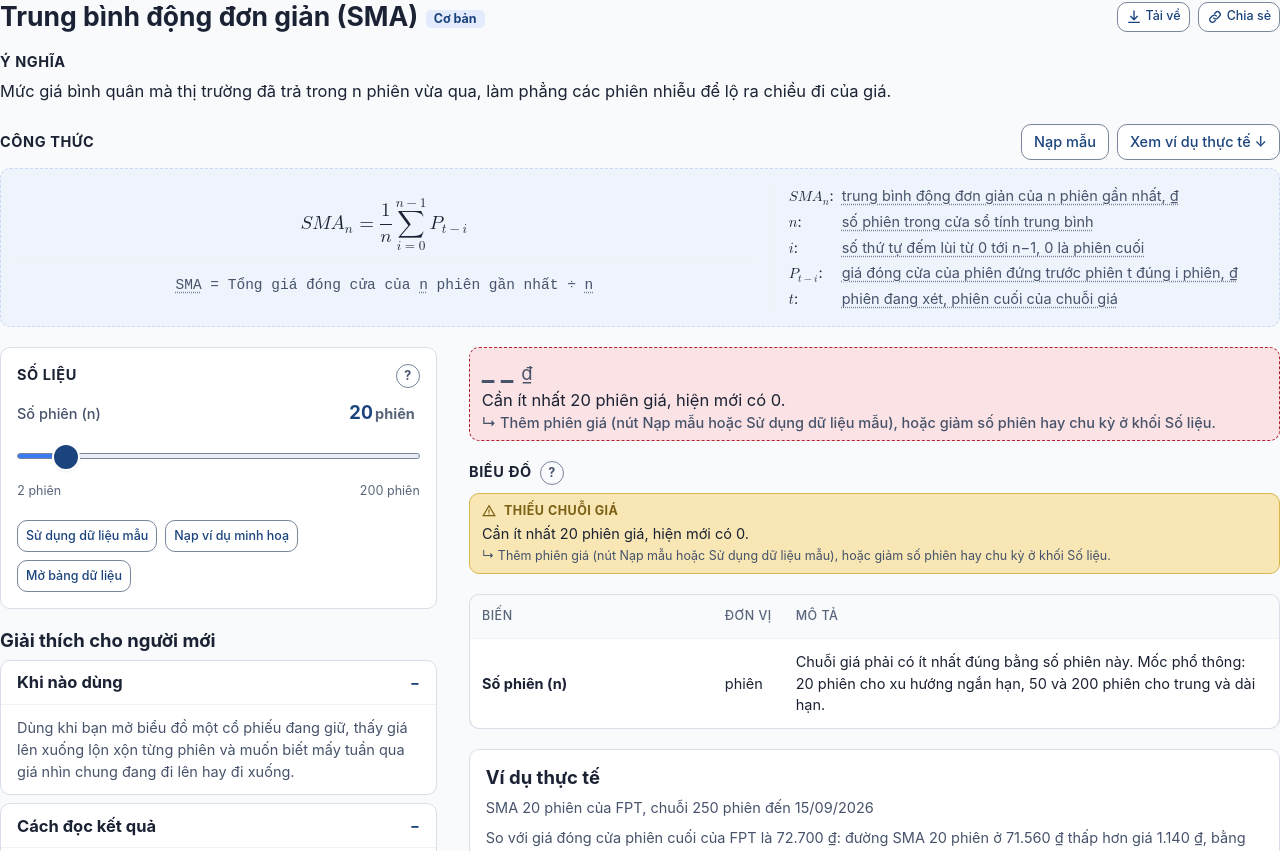
WF-03 — chín khối đúng thứ tự wireframe › khung "?" của công thức đang chờ chuỗi giá nói về hình sẽ hiện ra, kèm điều kiện vẽ
Click the link named "Hướng dẫn: đọc biểu đồ": (552, 473) left=540, top=461, right=564, bottom=485
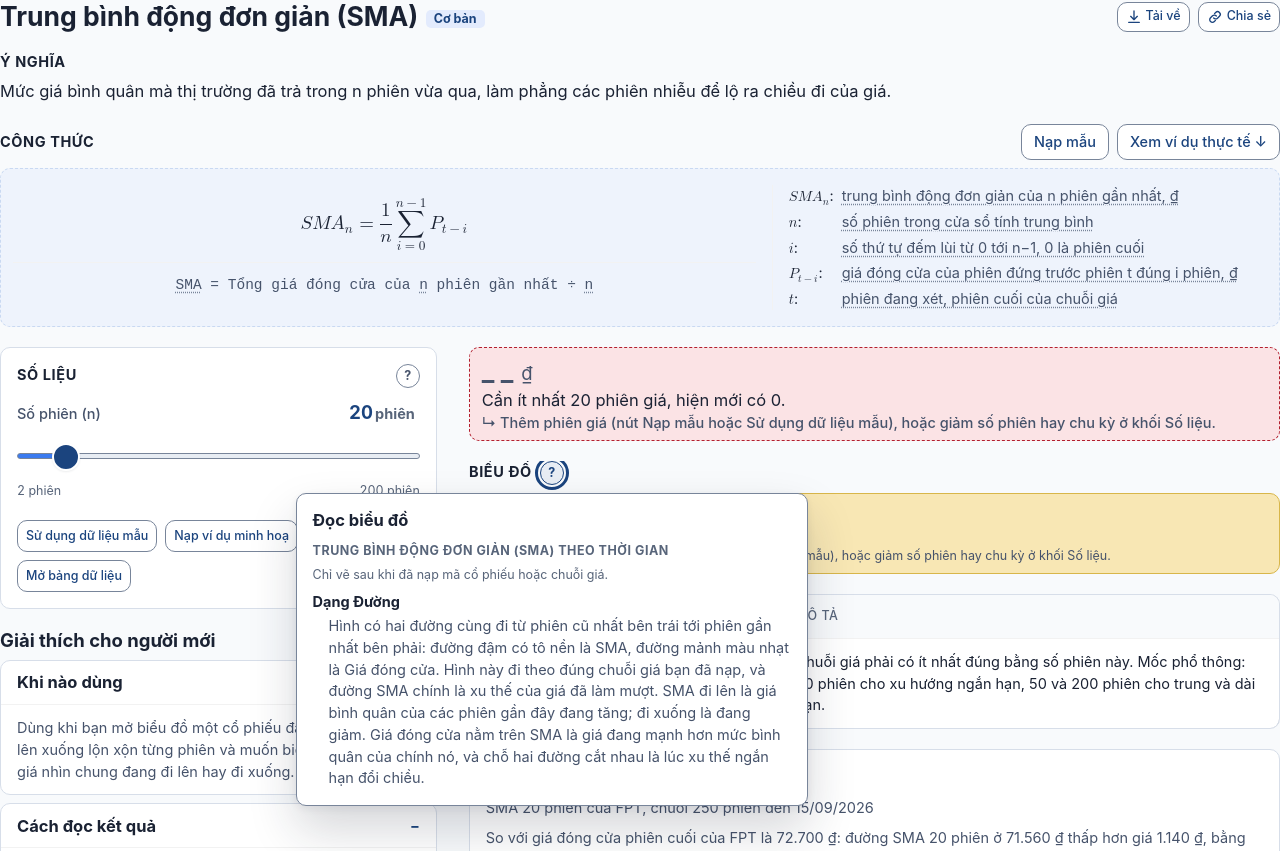
Expected: the heading "Trung bình động đơn giản (SMA) theo thời gian" is shown, left=313, top=542, right=669, bottom=558
Expected: the text "Chỉ vẽ sau khi đã nạp mã cổ phiếu hoặc chuỗi giá." is shown, left=313, top=567, right=608, bottom=582
